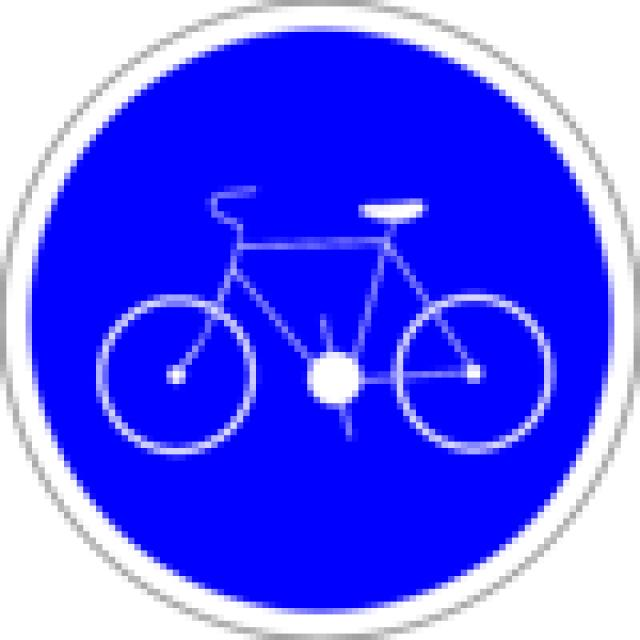obligation: (0, 0, 632, 640)
